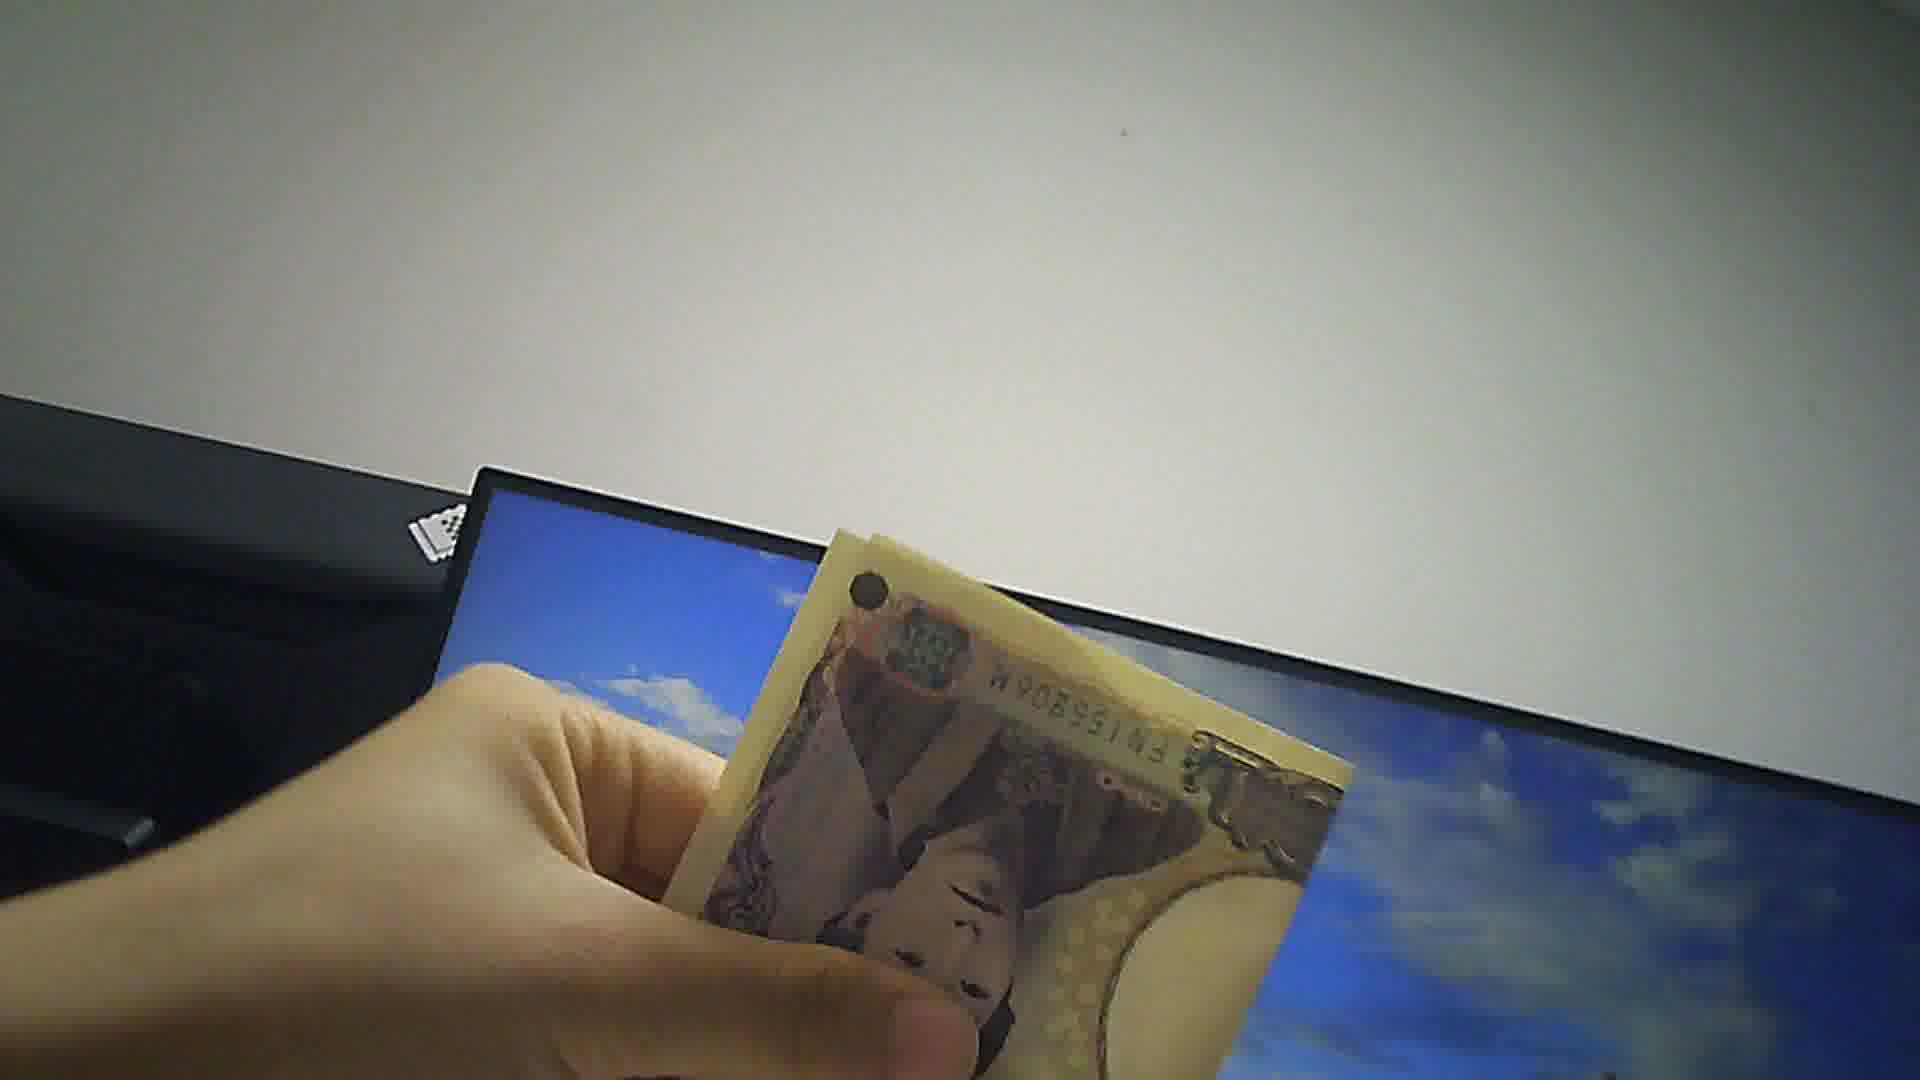5,000 Yen: (626, 524, 1352, 1069)
